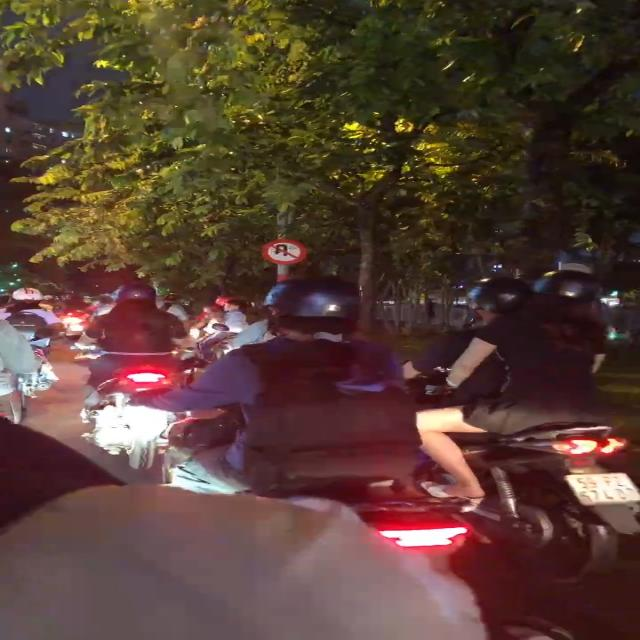Bien bao cam quay dau xe: (260, 237, 310, 265)
